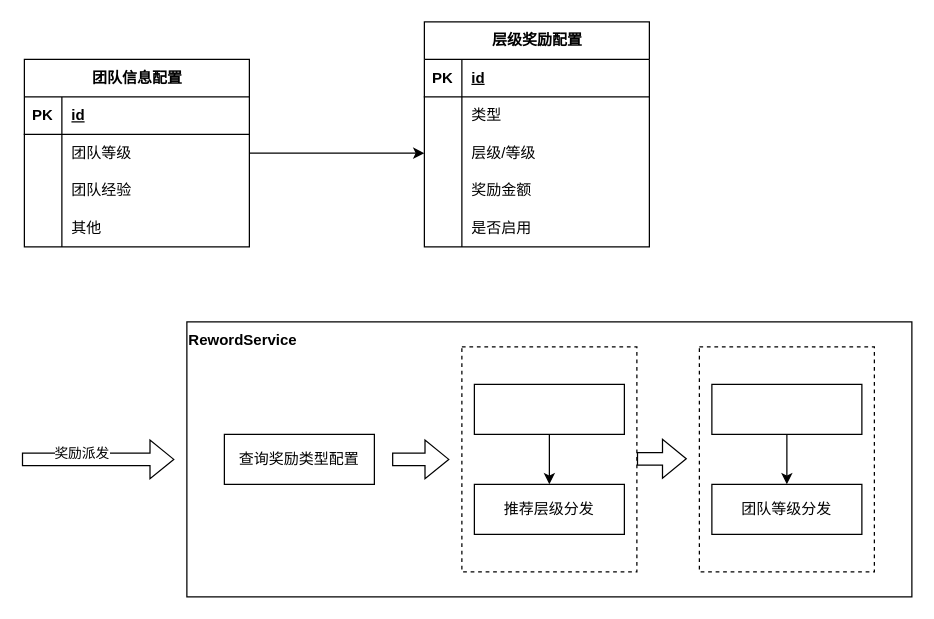
This 934x619 diagram has some shape labels left out. The centre of each missing label's shape, as x and y in pixels:
得到层级奖励配置: the point at 548,408
得到等级奖励配置: the point at 786,408
